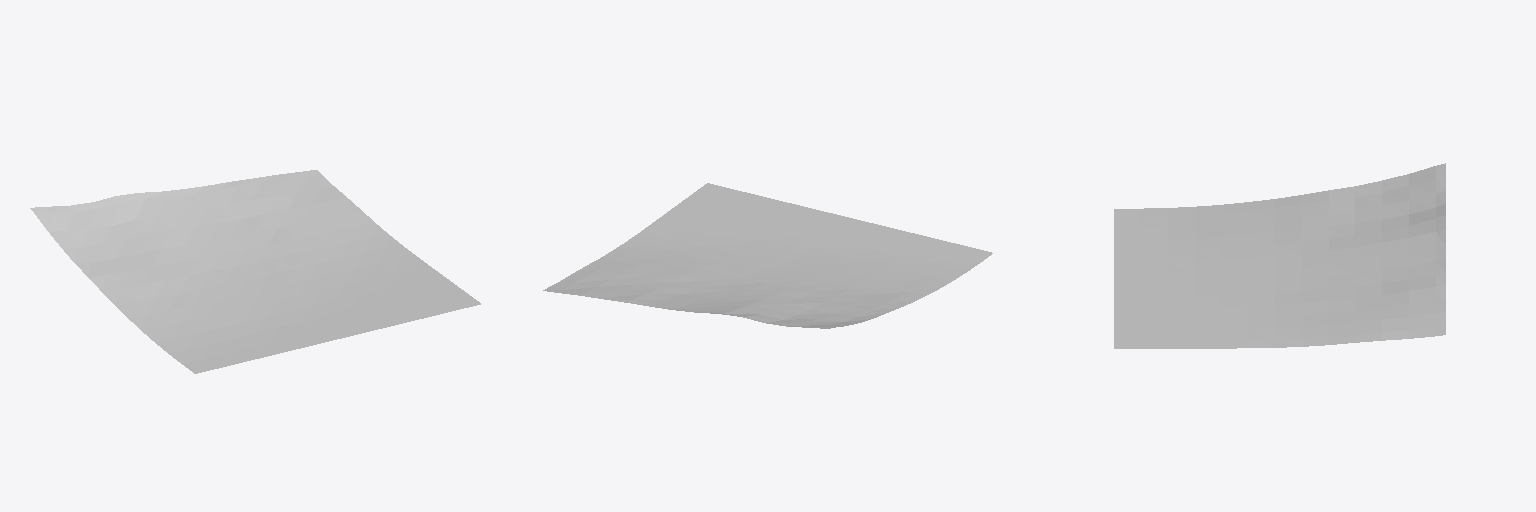
The model's file is Landscape.056.obj.
3 renders of one model, left to right at view 1: azimuth 30°, elevation 25°; view 2: azimuth 150°, elevation 25°; view 3: azimuth 270°, elevation 25°, orthographic.
Parts seen in each view (by area): view 1: Landscape.056; view 2: Landscape.056; view 3: Landscape.056.
Boxes of the visible parts, x1=… form: Landscape.056: x1=30, y1=170, x2=480, y2=373; Landscape.056: x1=543, y1=183, x2=992, y2=328; Landscape.056: x1=1114, y1=163, x2=1445, y2=348.
Bounding box in the file's own units: 32 × 4.81 × 32.